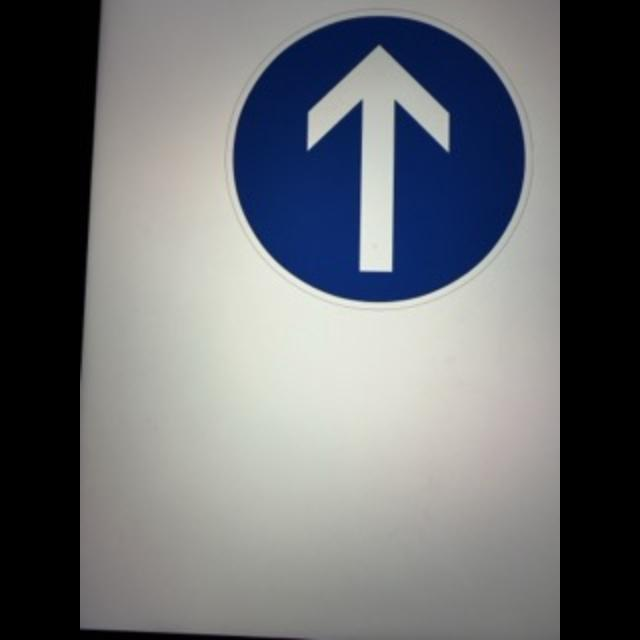GO FORWARD: (230, 14, 530, 300)
